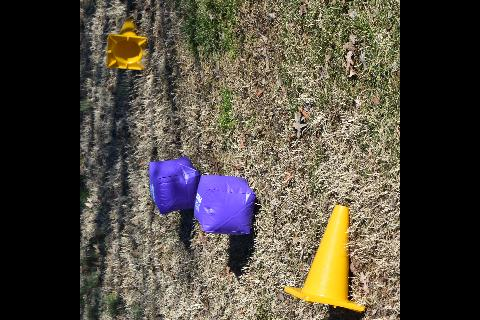cone: (284, 203, 368, 311), (108, 19, 146, 69)
cube: (195, 176, 255, 234), (150, 156, 200, 214)
